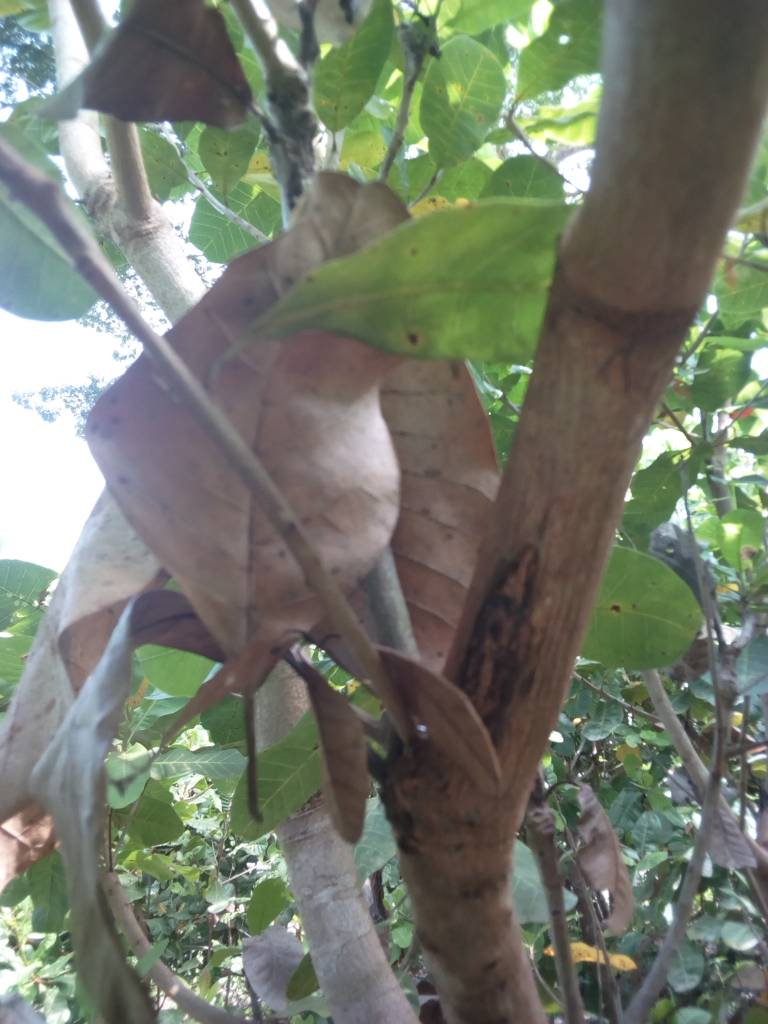Dessèchement des bourgeons: (255, 113, 321, 191), (397, 5, 443, 56)
